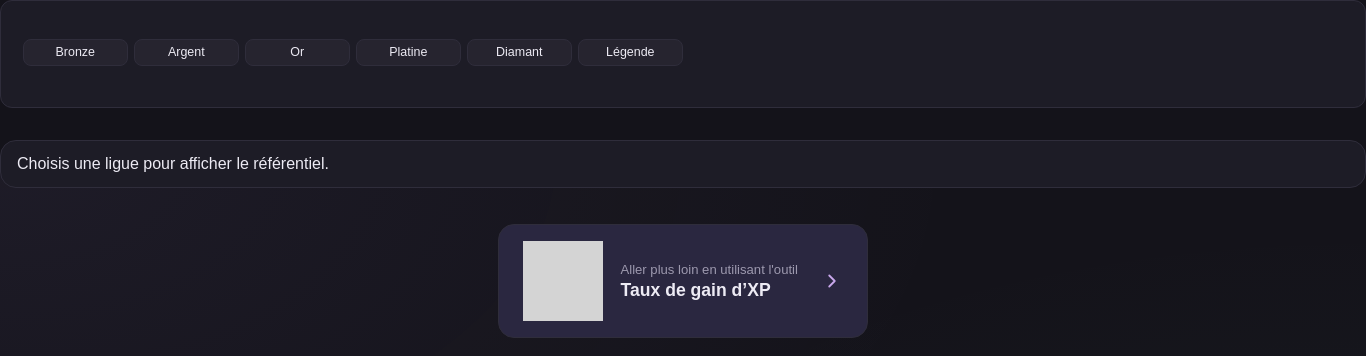
it: LevelUpReference › warns for Silver without inventing troop values
What coordinates should you click on to do the following:
click the button "Argent"
I would click on:
 (186, 52)
Its box is [134,39,239,66].
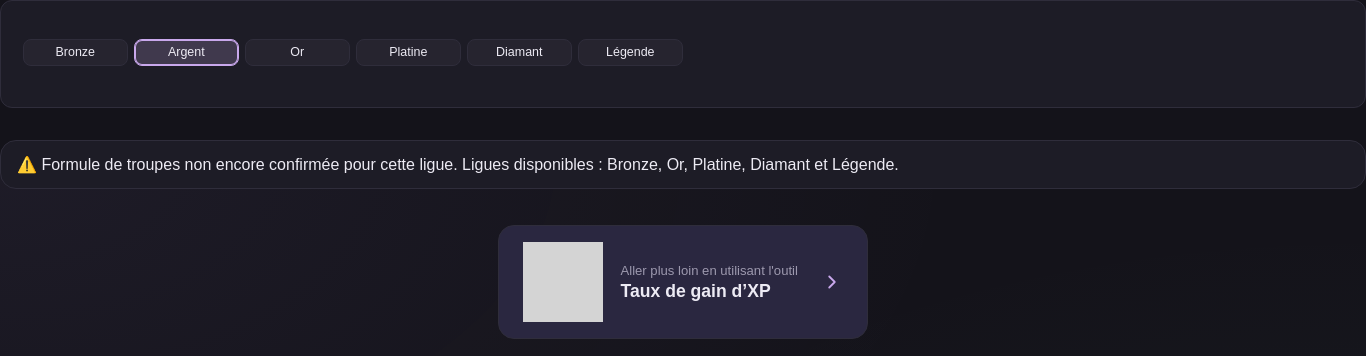
Check: the message shows "non encore confirmée", box [17,156,899,173]
